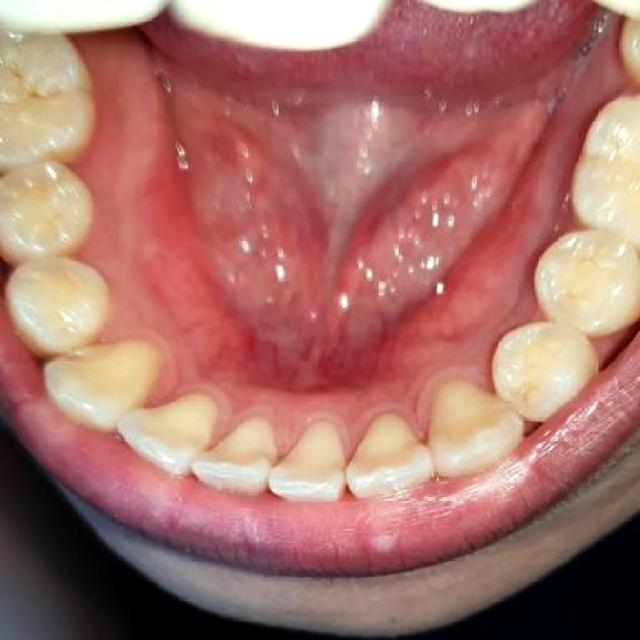Plaque: (4, 55, 71, 116)
